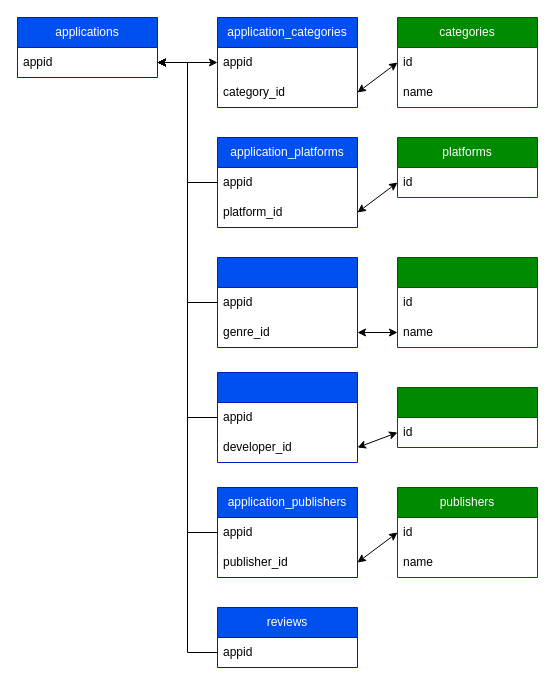
This 555x685 diagram has some shape labels left out. Each missing label, with the box of its shape:
application_developers: (216, 372, 358, 462)
application_genres: (216, 256, 358, 348)
developers: (396, 386, 538, 448)
genres: (396, 256, 538, 348)
